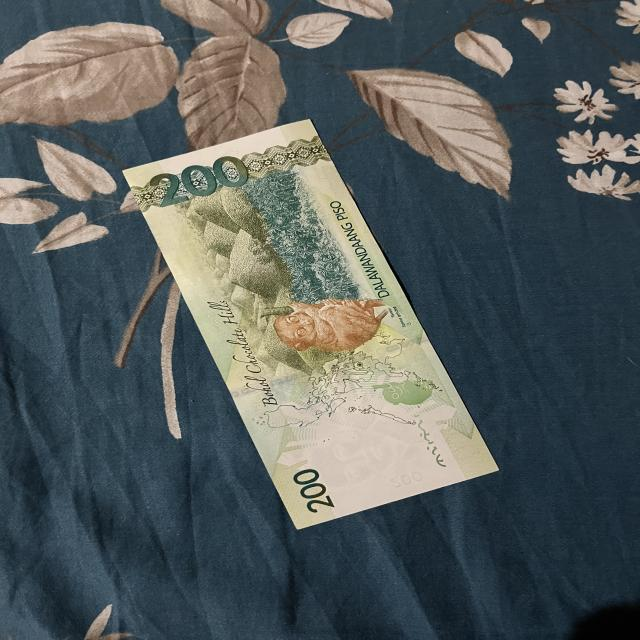security_thread: (228, 333, 430, 400)
see_through_mark: (404, 410, 451, 470)
value: (142, 151, 257, 212)
value_watermark: (387, 469, 429, 491)
